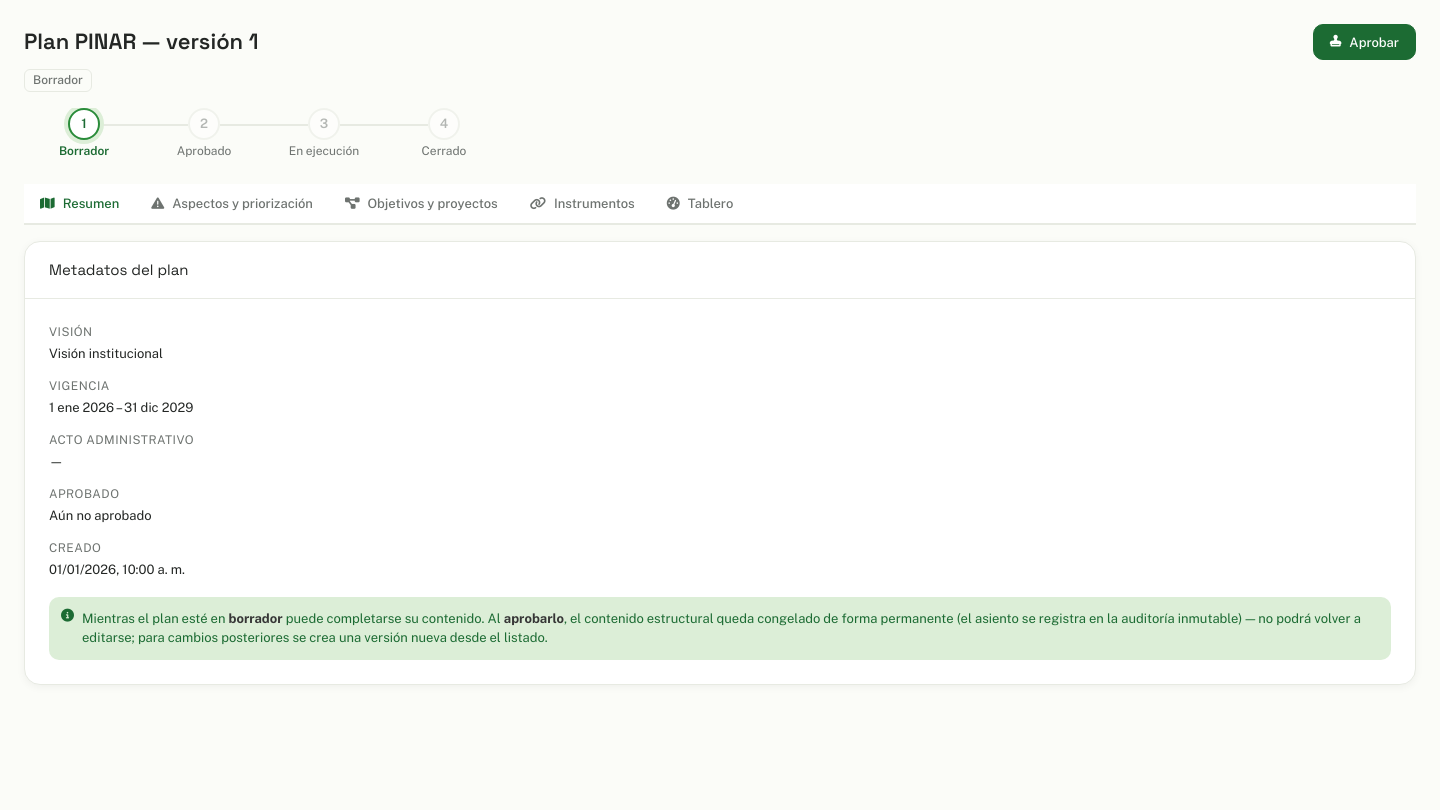
Test case: /admin/pinar/[id] — aspectos y matriz de priorización › sin aspectos DICE por qué importa, no deja un vacío mudo
Click the tab "Aspectos y priorización" at [232, 204], box x1=135 y1=184 x2=329 y2=225
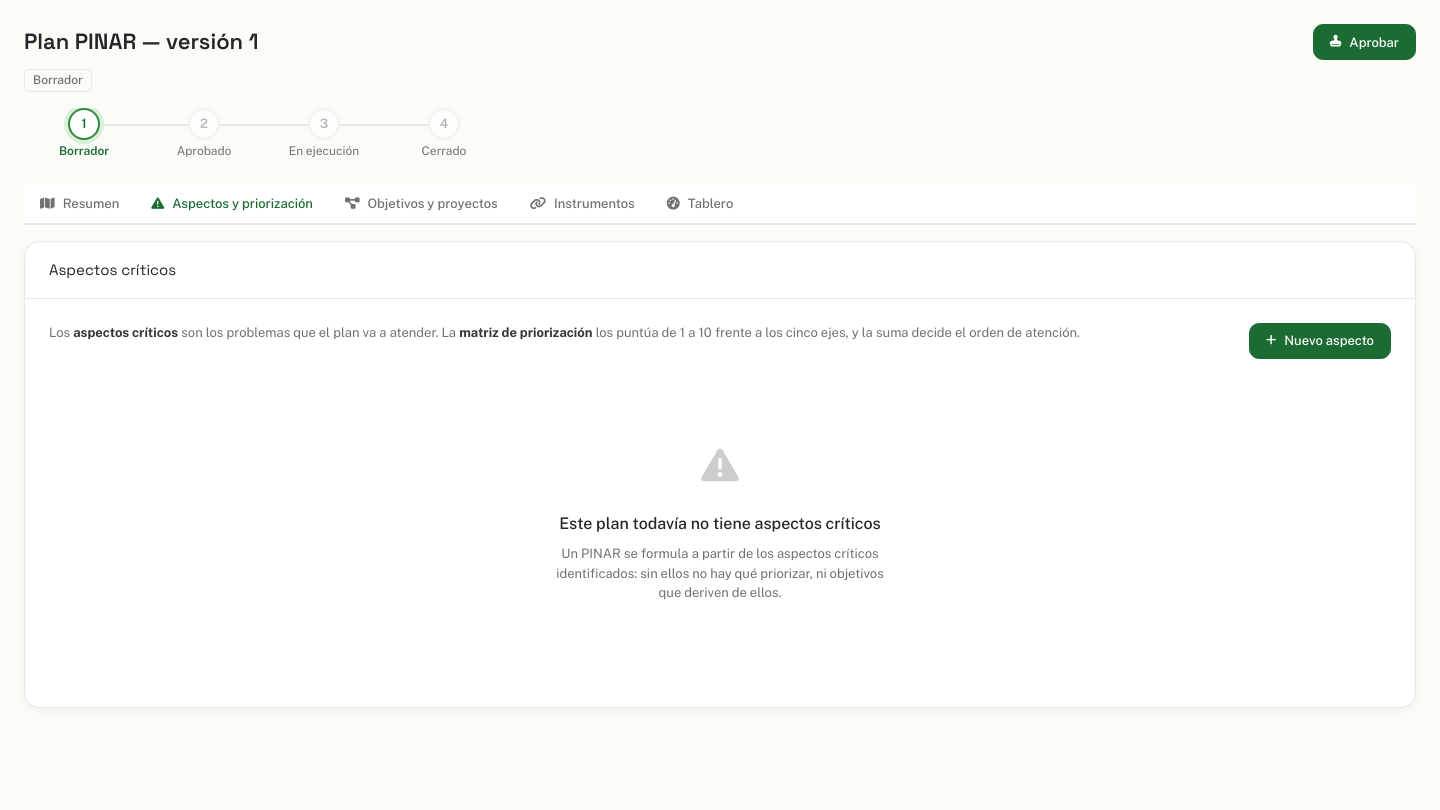
expect the text "no hay qué priorizar" is shown: met, box x1=556 y1=546 x2=884 y2=600
